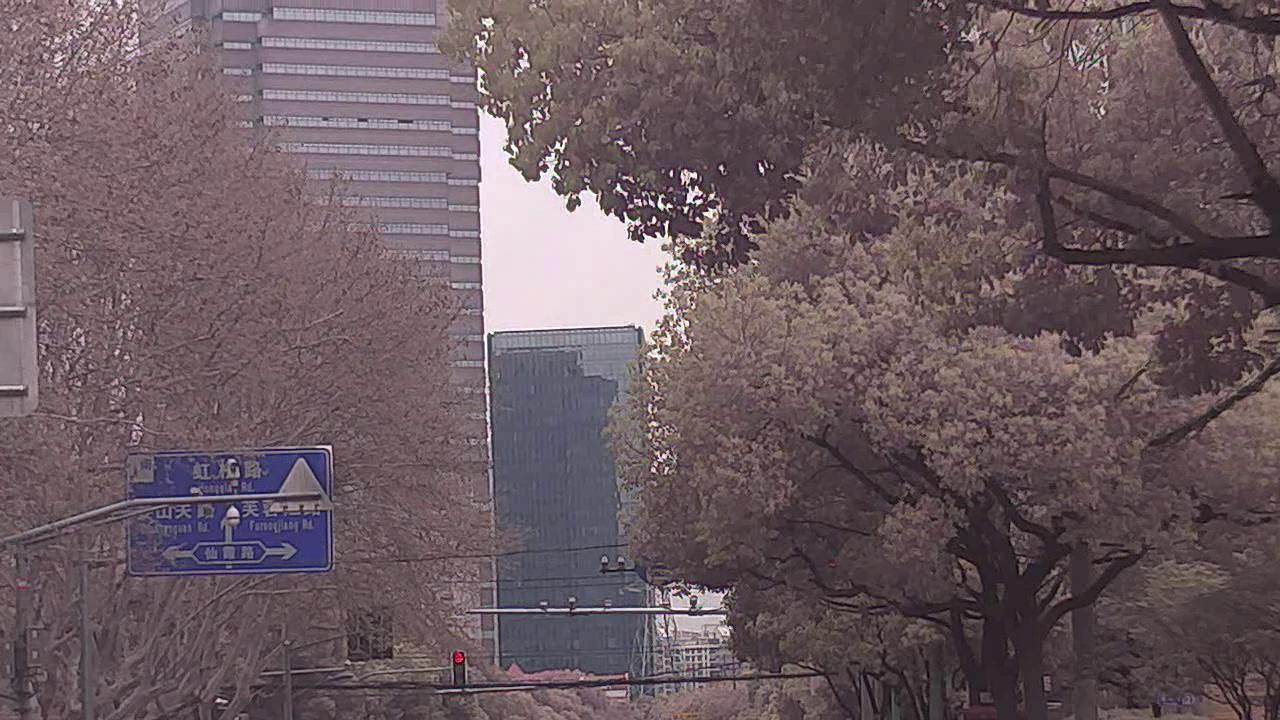traffic_light: (454, 651, 467, 688)
